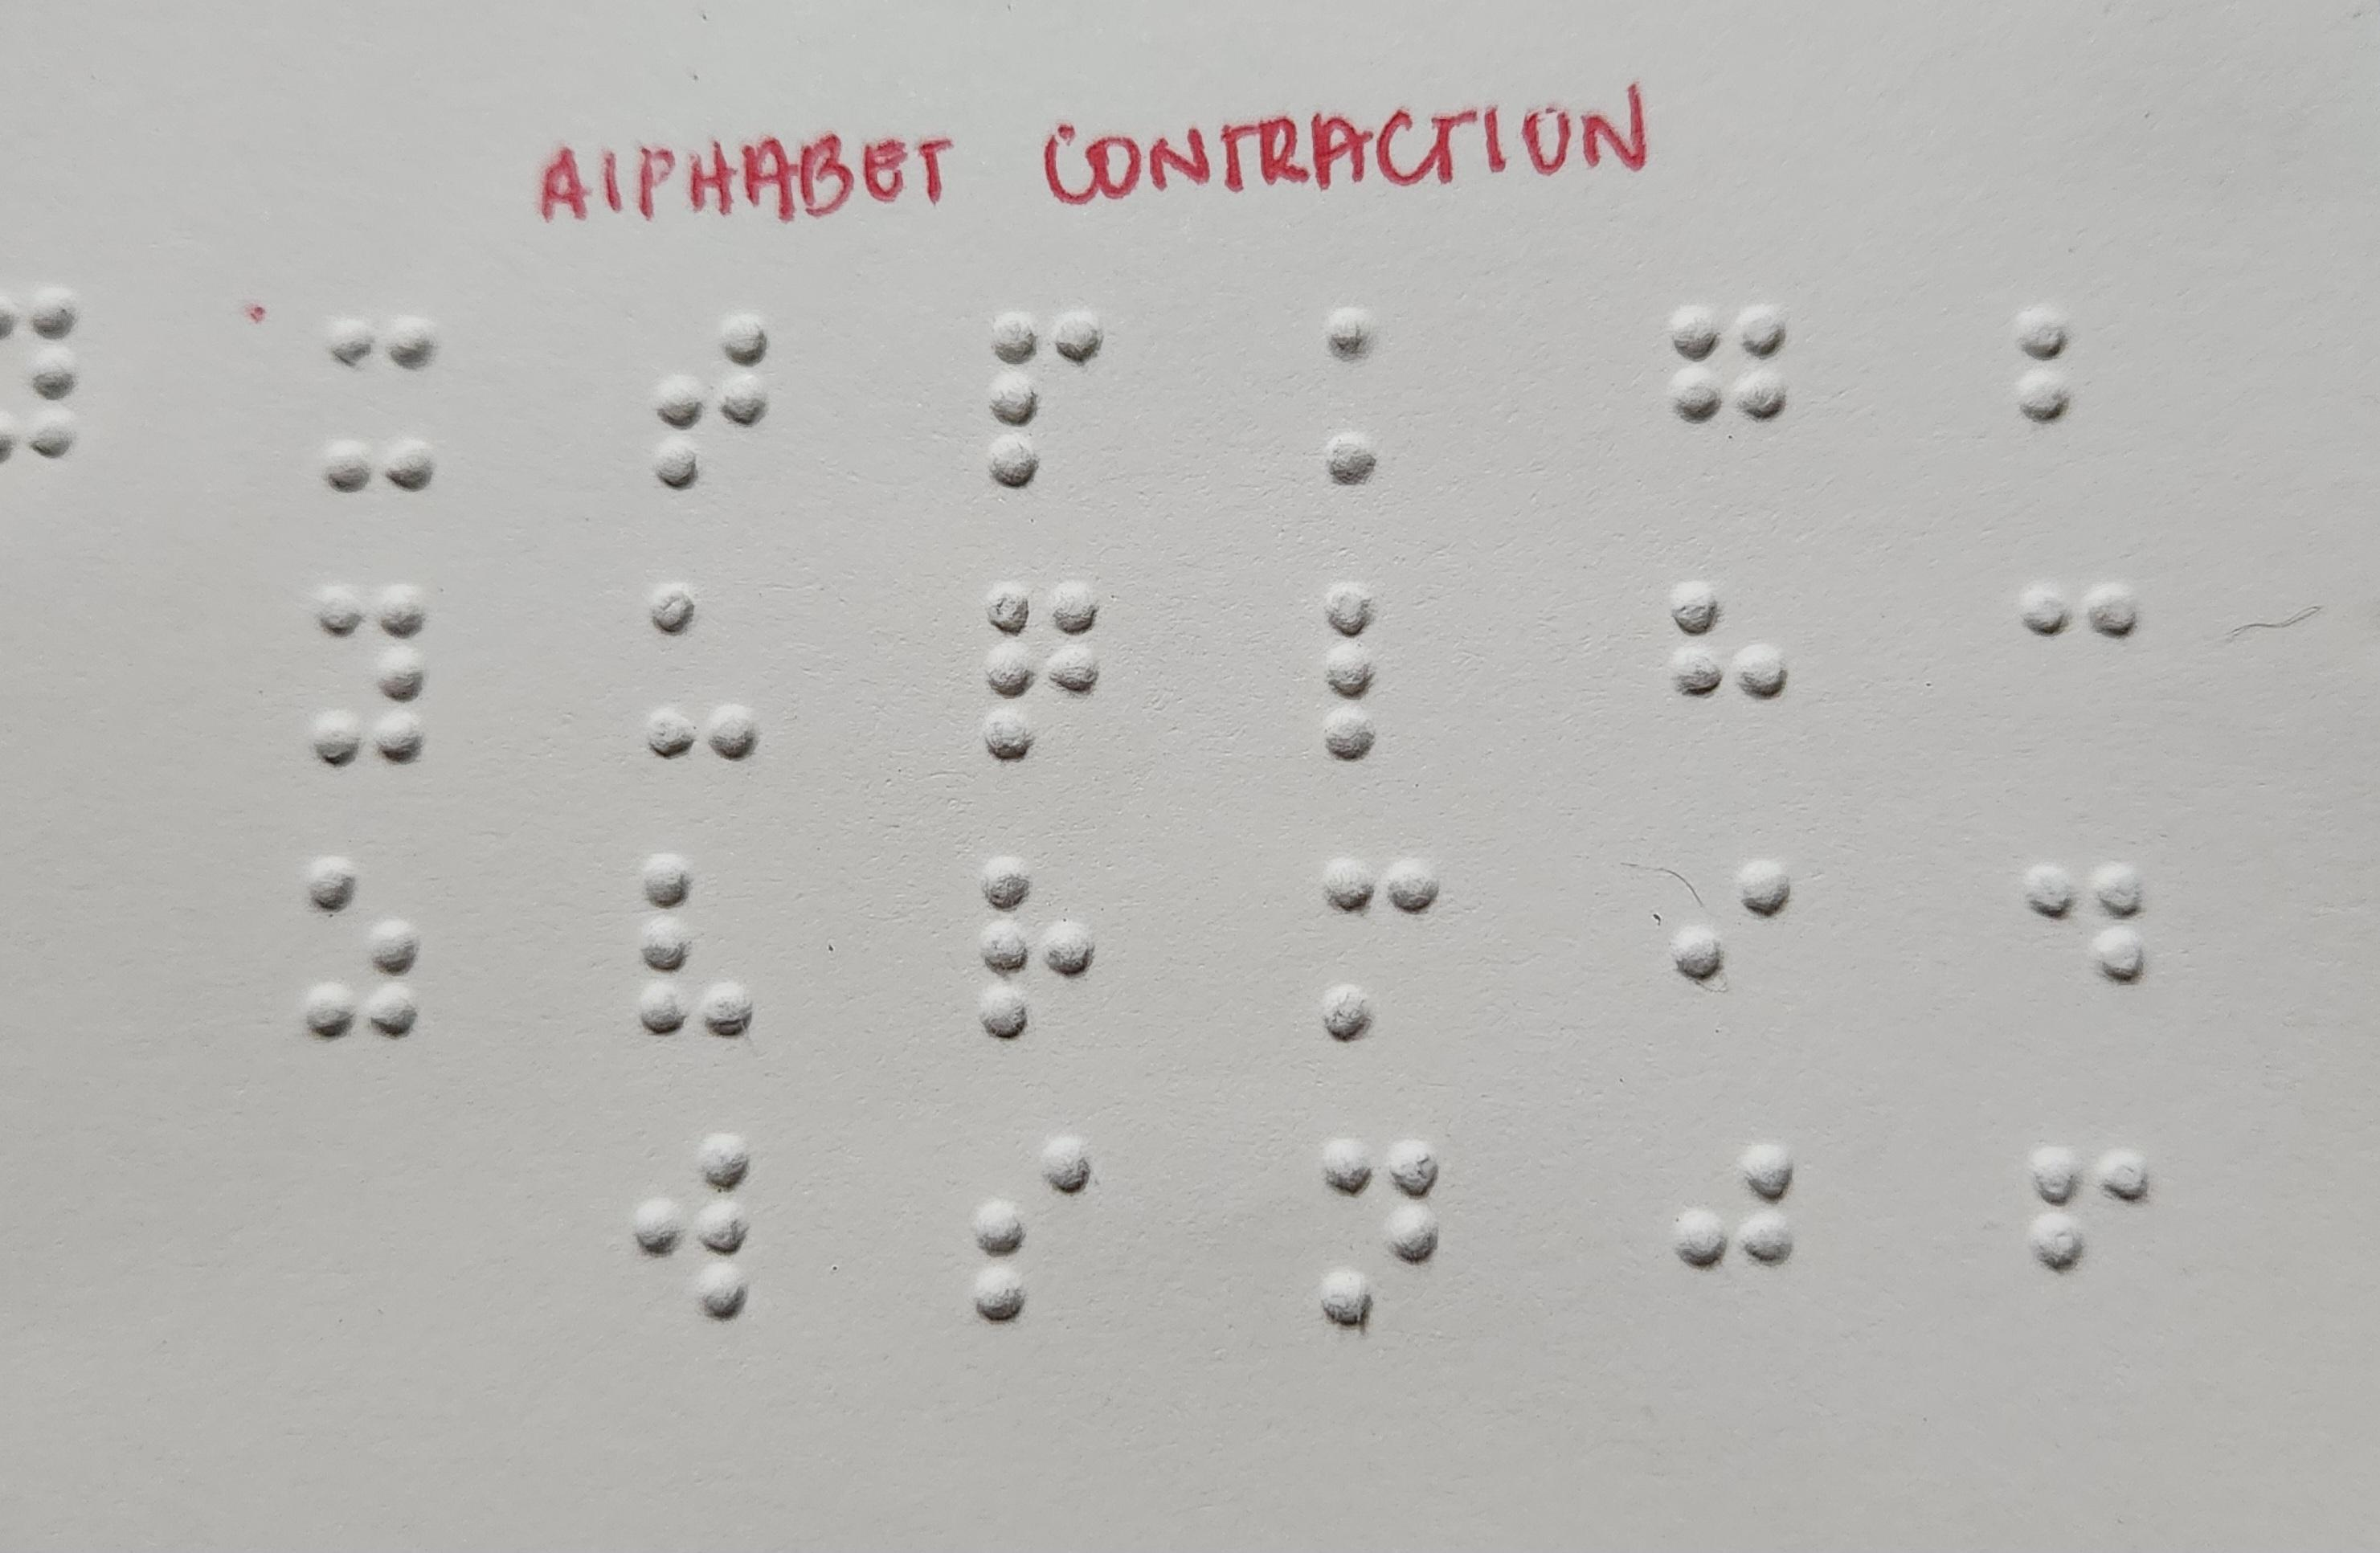one_cell_alphabet_bagaman: (642, 862, 755, 1041)
one_cell_alphabet_bakit: (2014, 298, 2127, 477)
one_cell_alphabet_dahil: (2023, 859, 2135, 1038)
one_cell_alphabet_ganoon: (1672, 304, 1785, 481)
one_cell_alphabet_hakbang: (1677, 1147, 1790, 1324)
one_cell_alphabet_hindi: (1672, 583, 1785, 760)
one_cell_alphabet_ikaw: (1677, 857, 1790, 1036)
one_cell_alphabet_ito: (323, 311, 434, 491)
one_cell_alphabet_kailan: (989, 583, 1102, 760)
one_cell_alphabet_kaniya: (2026, 585, 2139, 763)
one_cell_alphabet_kaya: (1324, 300, 1436, 479)
one_cell_alphabet_lamang: (1325, 586, 1438, 765)
one_cell_alphabet_mga: (1322, 861, 1435, 1038)
one_cell_alphabet_ngayon: (1325, 1145, 1438, 1322)
one_cell_alphabet_paano: (2035, 1149, 2148, 1327)
one_cell_alphabet_para: (991, 307, 1103, 486)
one_cell_alphabet_rin: (982, 861, 1095, 1038)
one_cell_alphabet_sa: (300, 855, 413, 1034)
one_cell_alphabet_sang-ayon: (977, 1142, 1089, 1320)
one_cell_alphabet_tayo: (656, 312, 768, 491)
one_cell_alphabet_upang: (649, 583, 762, 760)
one_cell_alphabet_wala: (635, 1142, 748, 1320)
one_cell_alphabet_yaman: (314, 585, 427, 763)
